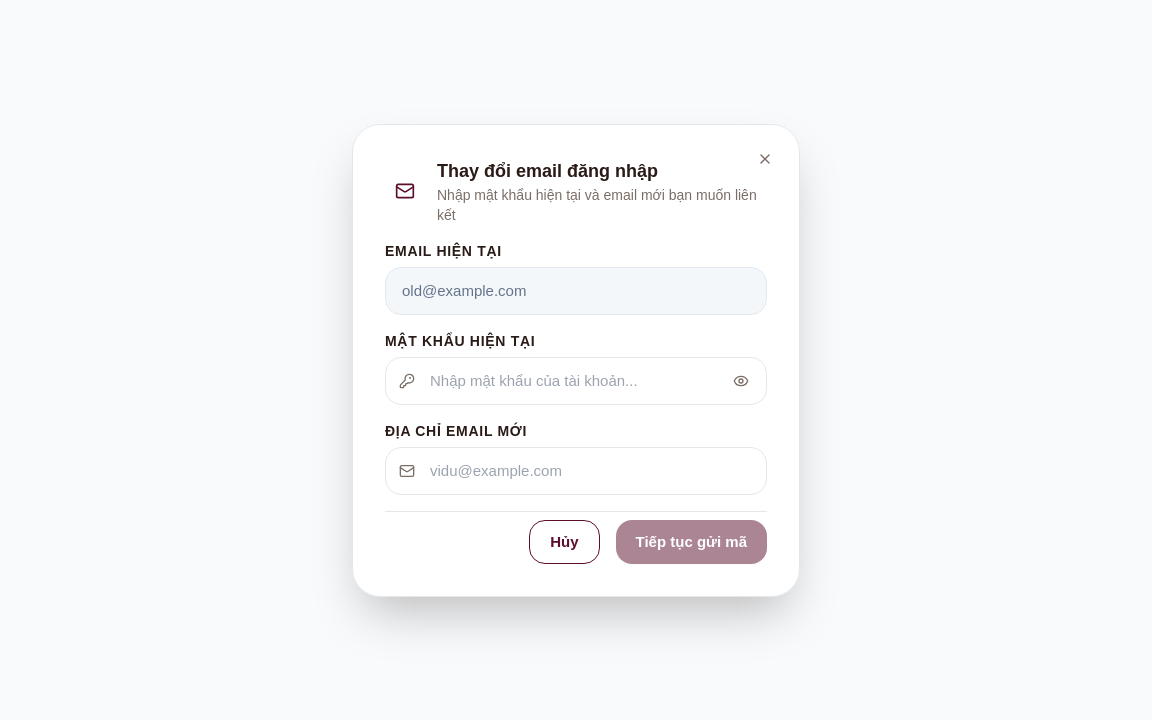
ChangeEmailDialog › Step 1: Request Email Change › displays error message if Step 1 request fails
Type "WrongPassword" into the password field with placeholder "Nhập mật khẩu của tài khoản..." at [576, 380], box top-left (385, 356), bottom-right (767, 404)
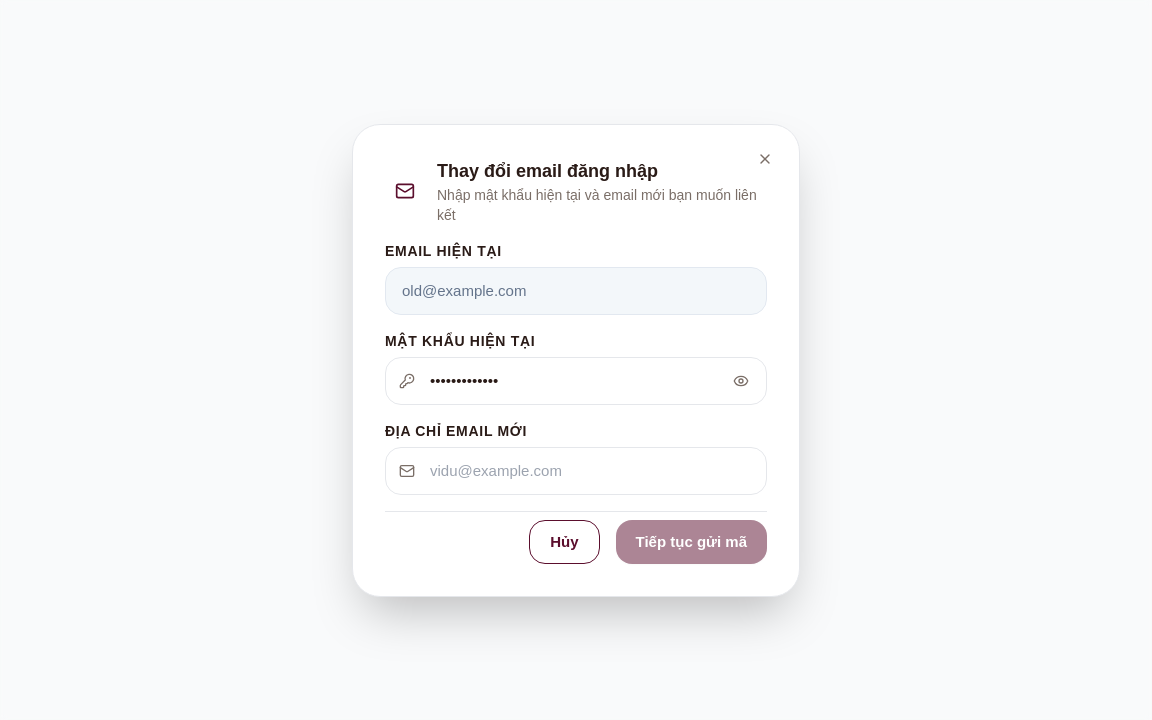
Type "new@example.com" into the field with placeholder "vidu@example.com" at [576, 470], box top-left (385, 446), bottom-right (767, 494)
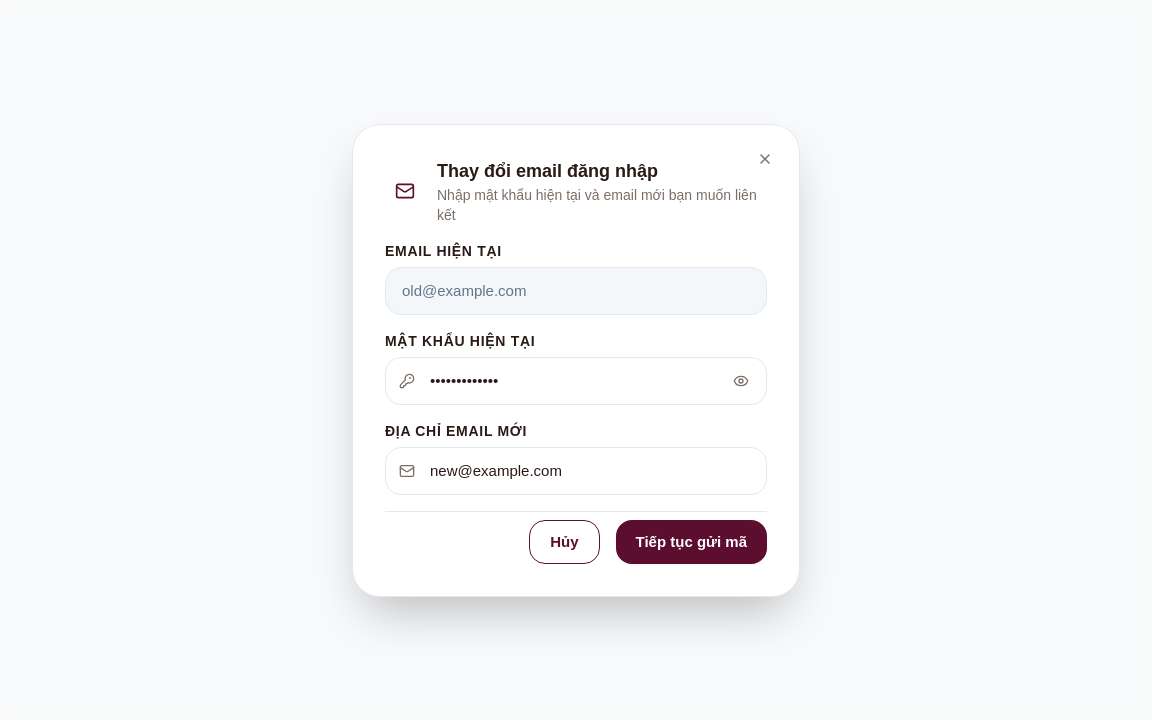
Click the button "Tiếp tục gửi mã" at [691, 542], box top-left (616, 520), bottom-right (767, 564)
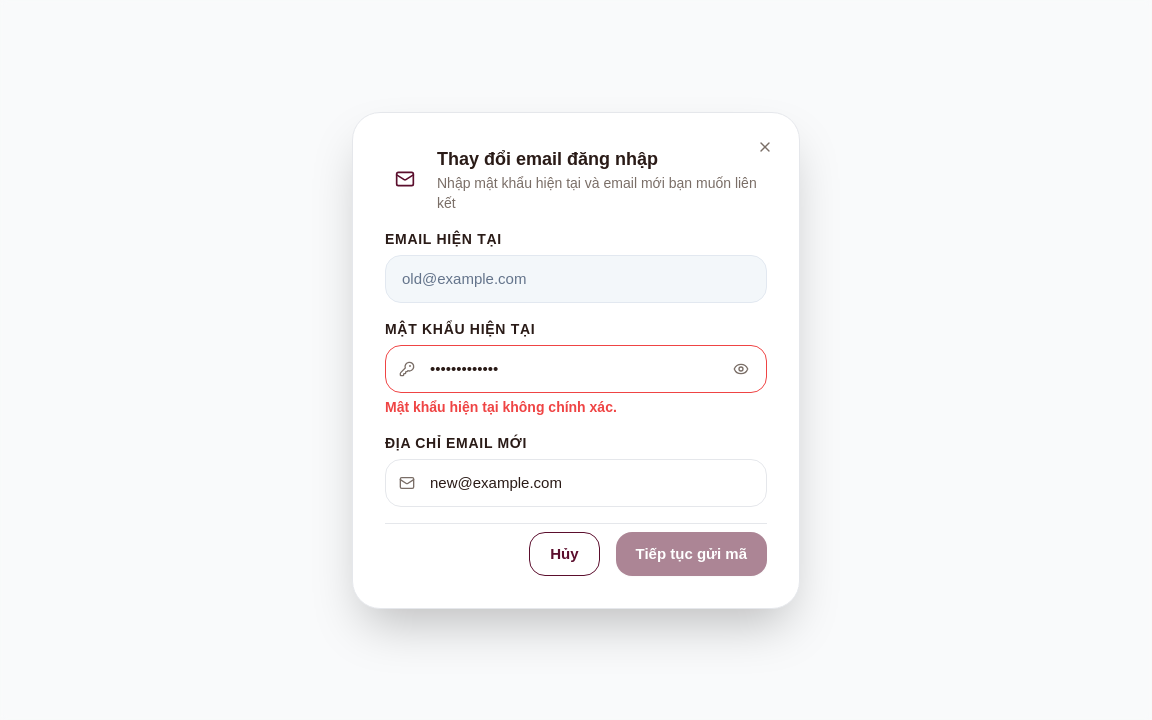
Check: the text "Mật khẩu hiện tại không chính xác." is shown, box top-left (385, 399), bottom-right (617, 415)
